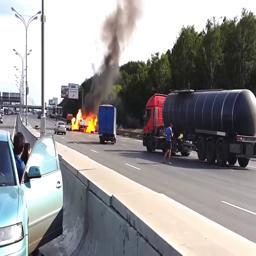fire: (71, 109, 98, 132)
